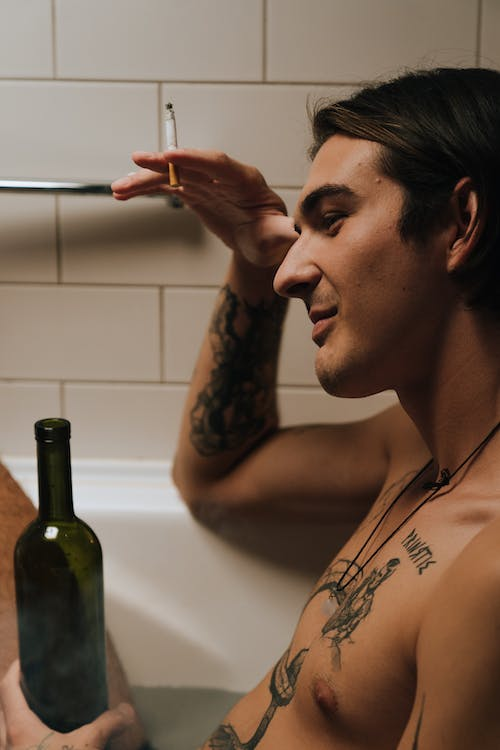alcohol: (12, 414, 111, 736)
cigarette: (162, 98, 183, 189)
